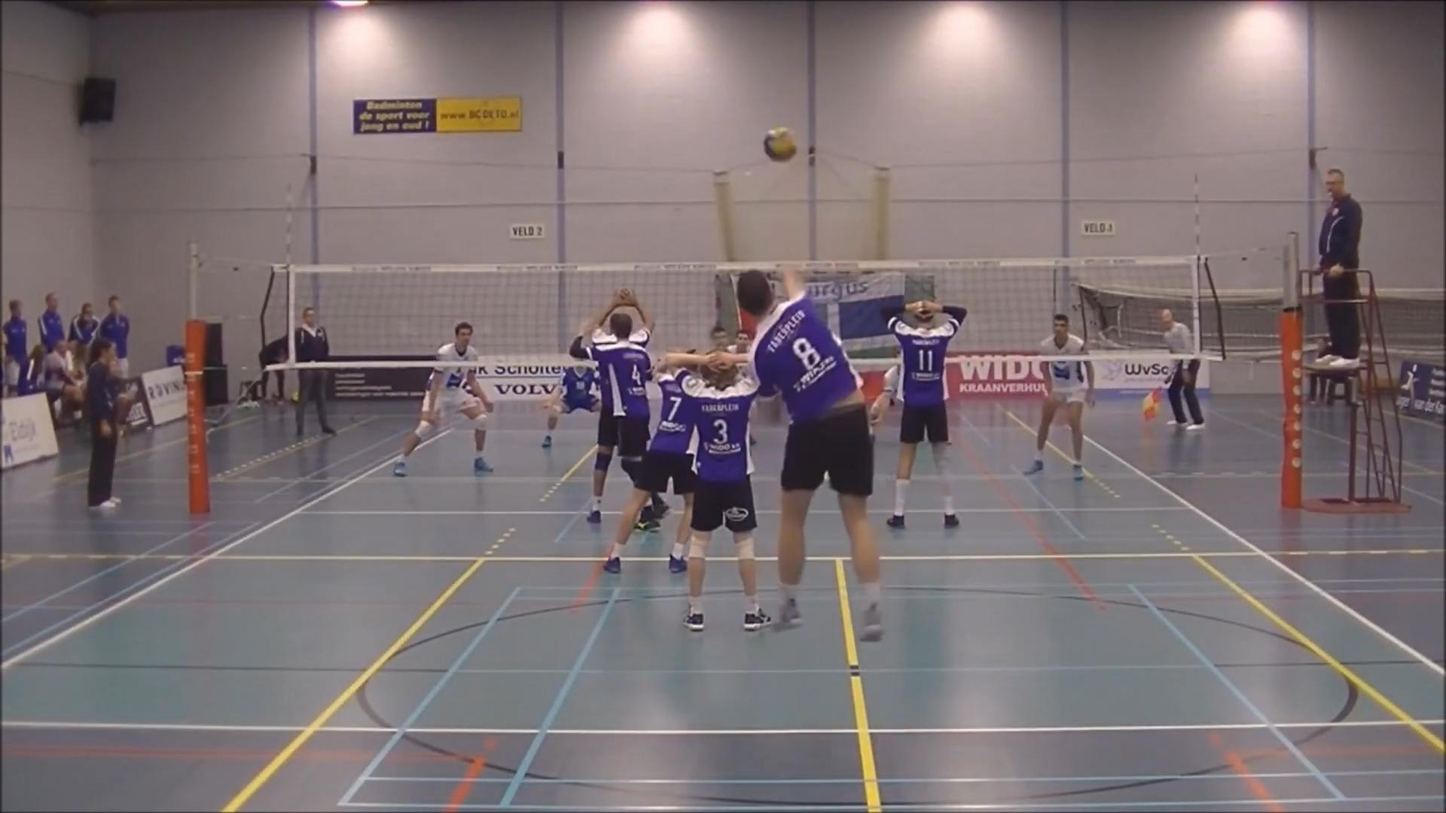battuta: (731, 258, 890, 652)
